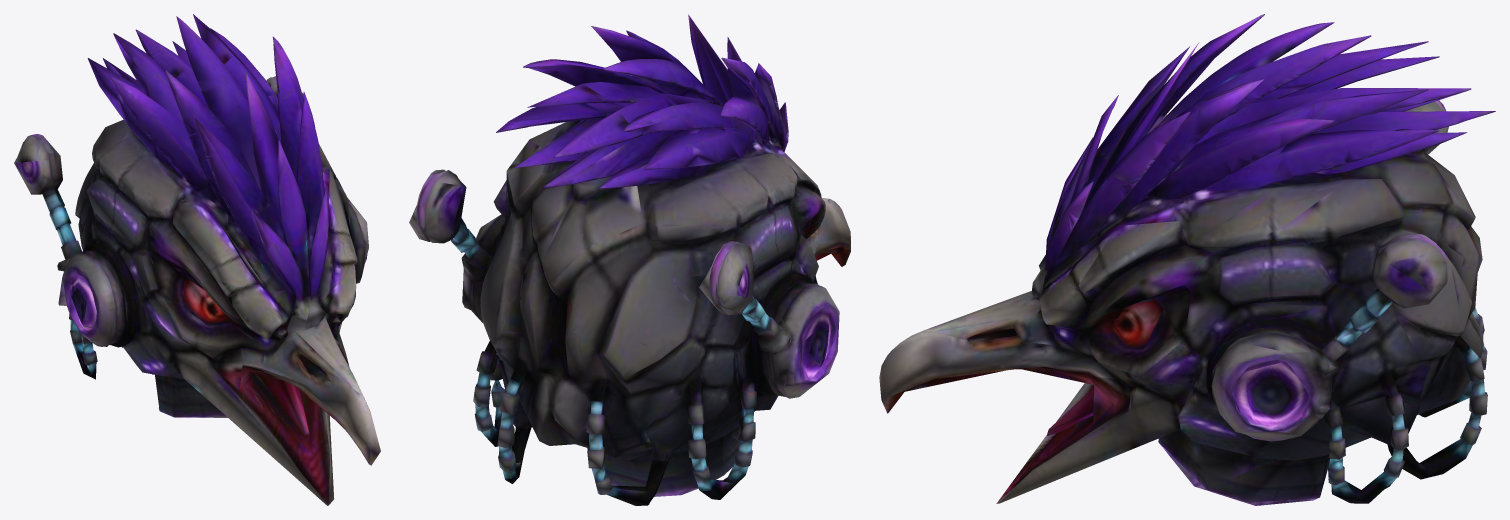
Rendered from nostrich01_head_rage.glb.
3 renders of one model, left to right at view 1: azimuth 30°, elevation 25°; view 2: azimuth 150°, elevation 25°; view 3: azimuth 270°, elevation 25°, orthographic. The views are drawn at different scales.
Visible parts, largest first — view 1: material; view 2: material; view 3: material.
Boxes of the visible parts, box(x1,y1,x2,y2) form: material: box(14, 14, 380, 505); material: box(409, 14, 850, 505); material: box(879, 14, 1495, 505).
Size of the model in its own units: 0.6649 by 0.8737 by 1.04.
Materials: 1 (1 with a texture image).
